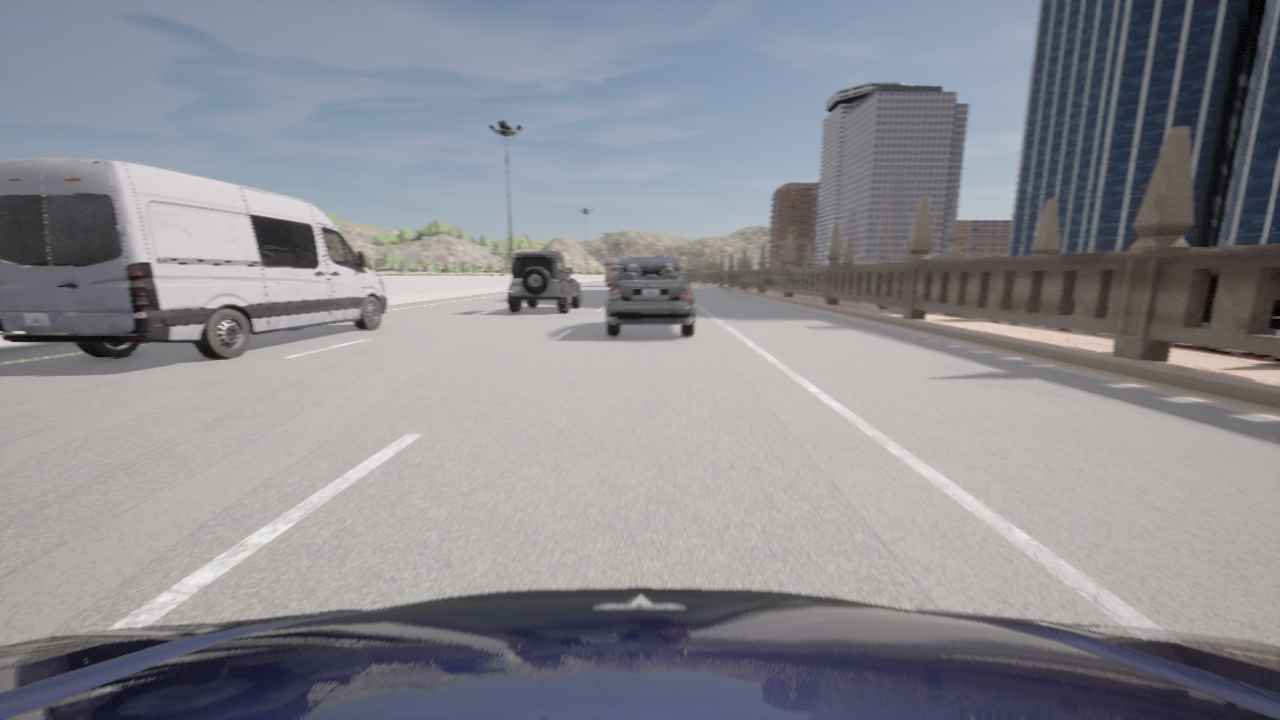cyclist: (0, 588, 1279, 719), (0, 158, 386, 358), (606, 257, 695, 336), (506, 251, 580, 312), (605, 261, 622, 286)
